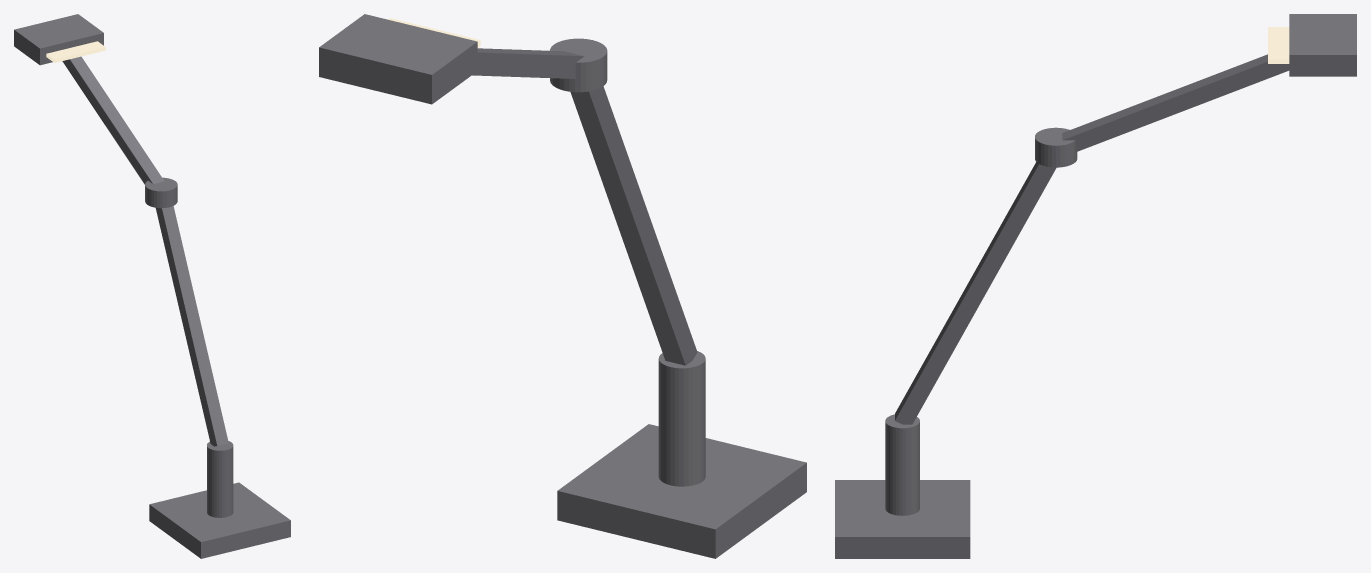
3 views of the same model, side by side, from view 1: azimuth 30°, elevation 25°; view 2: azimuth 150°, elevation 25°; view 3: azimuth 270°, elevation 25° (orthographic). The views are drawn at different scales.
Visible parts, largest first — view 1: Base, LowerArm, UpperArm, Head, Stem, Joint, LEDPanel; view 2: Base, Head, LowerArm, Stem, UpperArm, Joint; view 3: Base, LowerArm, UpperArm, Head, Stem, Joint, LEDPanel.
Part boxes in pixels (bbox=[...]): Base: bbox=[149, 482, 290, 558]; LowerArm: bbox=[155, 206, 228, 446]; UpperArm: bbox=[62, 56, 164, 184]; Head: bbox=[14, 14, 103, 65]; Stem: bbox=[207, 441, 233, 517]; Joint: bbox=[145, 177, 177, 208]; LEDPanel: bbox=[46, 41, 105, 62]; Base: bbox=[557, 424, 806, 558]; Head: bbox=[319, 14, 477, 104]; LowerArm: bbox=[570, 86, 697, 365]; Stem: bbox=[658, 351, 705, 486]; UpperArm: bbox=[472, 48, 584, 78]; Joint: bbox=[550, 38, 607, 92]; Base: bbox=[835, 480, 970, 558]; LowerArm: bbox=[895, 162, 1056, 424]; UpperArm: bbox=[1062, 54, 1289, 152]; Head: bbox=[1289, 14, 1356, 76]; Stem: bbox=[885, 414, 919, 515]; Joint: bbox=[1035, 127, 1077, 167]; LEDPanel: bbox=[1268, 27, 1289, 63].
Size of the model in its own units: 0.14 by 0.5662 by 0.5401.
